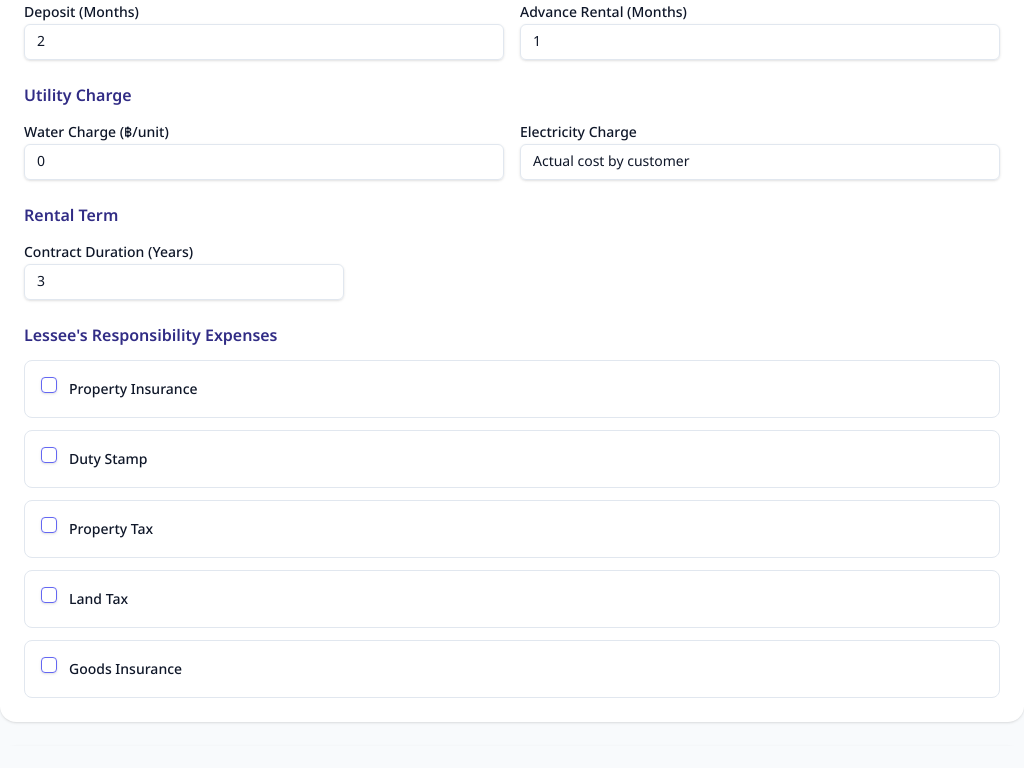
Test: FormSaleCommercialProposalPage › shows note input when lessee responsibility is checked
(page scrolled)
Click the checkbox next to "property insurance". click: (49, 384)
box: [41, 376, 57, 392]
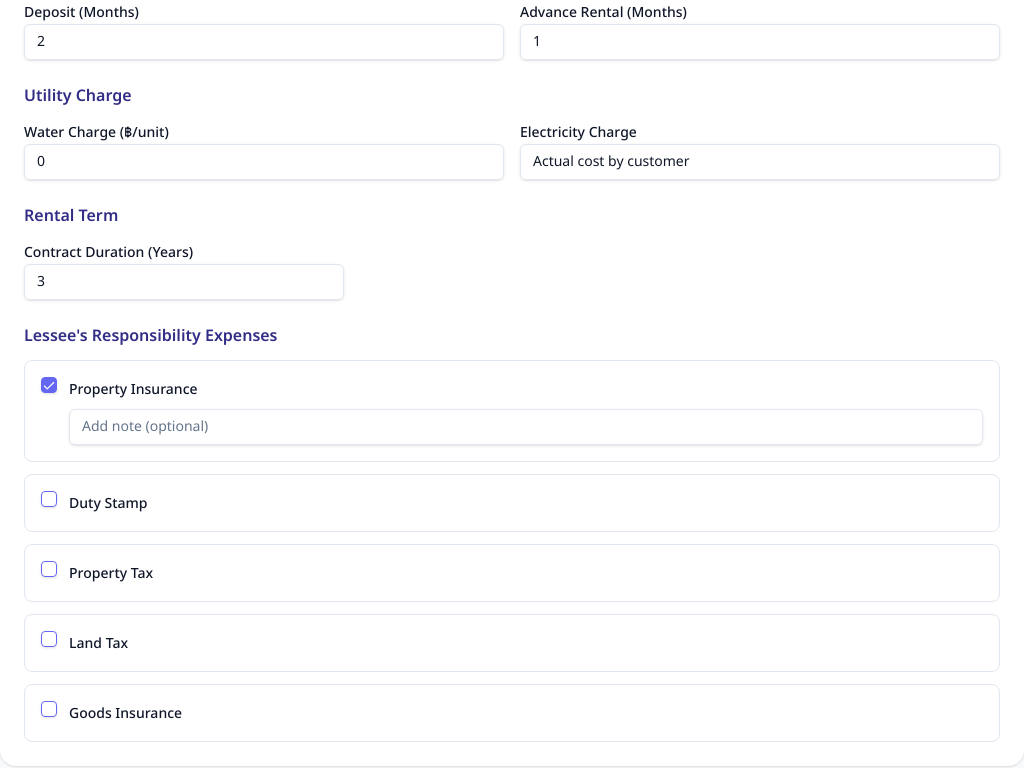
Check: the field with placeholder "Add note (optional)" is shown, box [69, 408, 983, 444]
